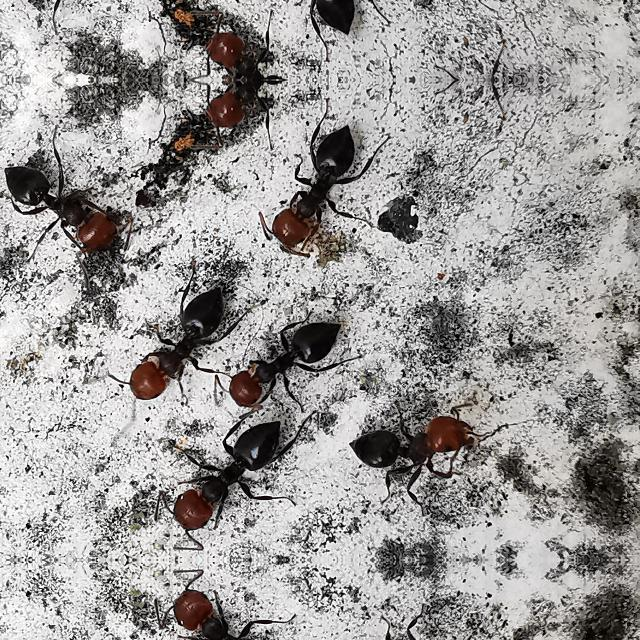Crematogaster: (158, 412, 292, 550), (342, 401, 501, 503), (268, 111, 366, 255), (205, 315, 348, 411), (0, 150, 118, 266), (124, 282, 236, 404), (157, 570, 292, 640), (196, 80, 286, 144), (196, 16, 286, 80), (267, 0, 366, 49), (341, 617, 500, 640)
